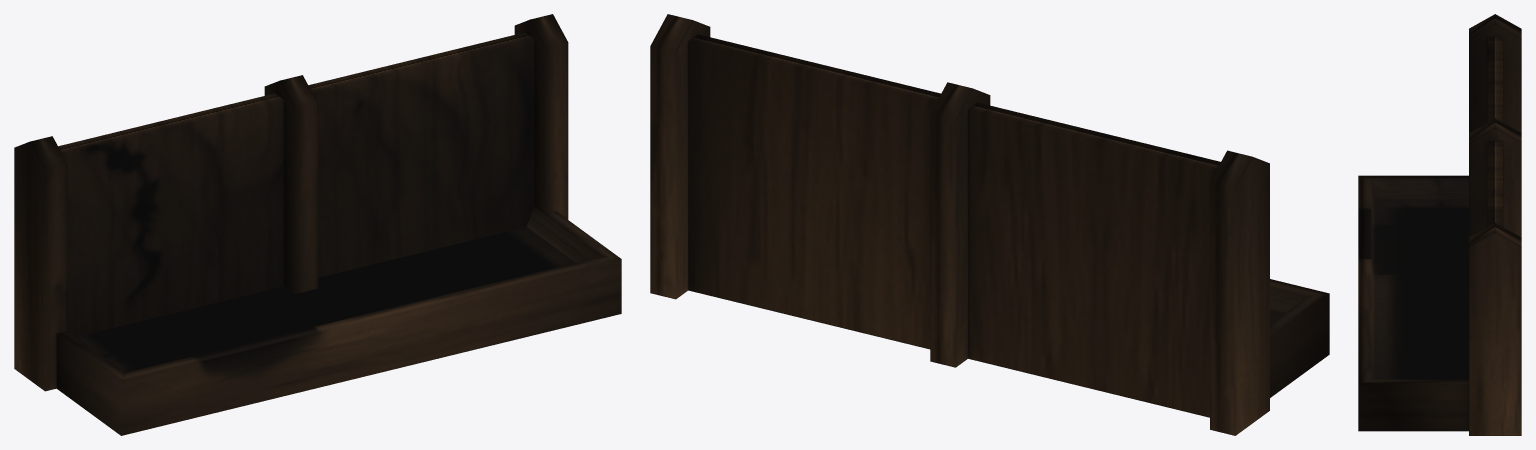
The model's file is Bow rack.fbx.
3 views of the same model, side by side, from view 1: azimuth 30°, elevation 25°; view 2: azimuth 150°, elevation 25°; view 3: azimuth 270°, elevation 25° (orthographic). The views are drawn at different scales.
Parts seen in each view (by area): view 1: Bow_rack; view 2: Bow_rack; view 3: Bow_rack.
Boxes of the visible parts, left/top/right/bottom form: Bow_rack: left=14, top=14, right=621, bottom=435; Bow_rack: left=650, top=14, right=1329, bottom=435; Bow_rack: left=1358, top=14, right=1521, bottom=435.
Size of the model in its own units: 3.89 by 1.69 by 1.23.
